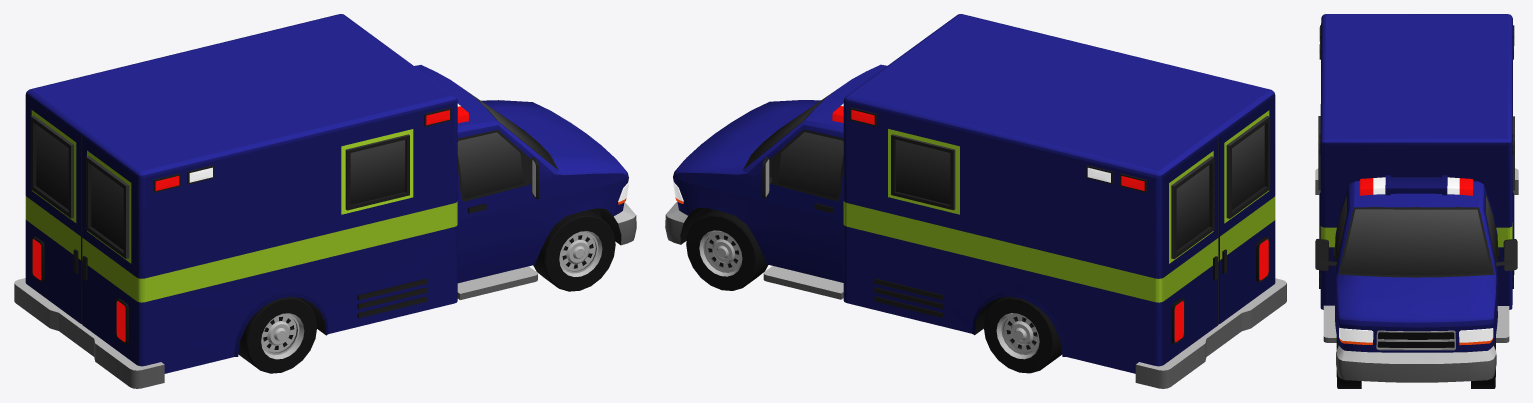
The model's file is Emergency_010.glb.
The picture shows the model from 3 angles, left to right: view 1: azimuth 30°, elevation 25°; view 2: azimuth 150°, elevation 25°; view 3: azimuth 270°, elevation 25°; orthographic projection. The views are drawn at different scales.
Parts seen in each view (by area): view 1: Emergency_010, wheel_1_Emergency_010_Wheel_1R, wheel_3_Emergency_010_Wheel_2R; view 2: Emergency_010, wheel_0_Emergency_010_Wheel_1L, wheel_2_Emergency_010_Wheel_2L; view 3: Emergency_010, wheel_1_Emergency_010_Wheel_1R, wheel_0_Emergency_010_Wheel_1L.
Part boxes in pixels (x1,y1,x2,y2): Emergency_010: [14, 14, 636, 388]; wheel_1_Emergency_010_Wheel_1R: [533, 210, 615, 291]; wheel_3_Emergency_010_Wheel_2R: [238, 297, 317, 373]; Emergency_010: [665, 14, 1286, 388]; wheel_0_Emergency_010_Wheel_1L: [686, 209, 768, 290]; wheel_2_Emergency_010_Wheel_2L: [983, 296, 1062, 373]; Emergency_010: [1315, 14, 1518, 382]; wheel_1_Emergency_010_Wheel_1R: [1336, 336, 1361, 388]; wheel_0_Emergency_010_Wheel_1L: [1471, 335, 1495, 388].
Bounding box in the file's own units: 5.78 × 2.46 × 2.35.
Materials: 3 (3 with a texture image).
